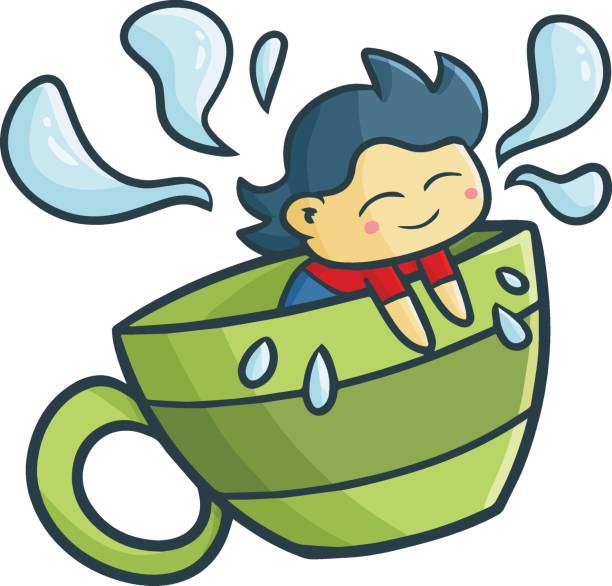cup: (7, 5, 610, 570)
